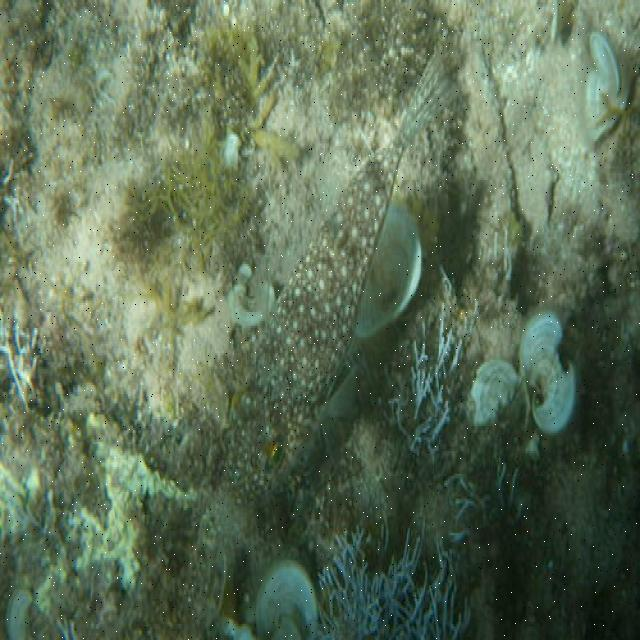Balik: (258, 57, 447, 455)
